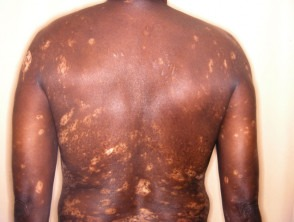Melasma: (53, 23, 203, 222), (32, 111, 47, 209), (33, 6, 57, 64), (207, 37, 238, 81), (233, 104, 251, 151), (222, 164, 244, 193)
